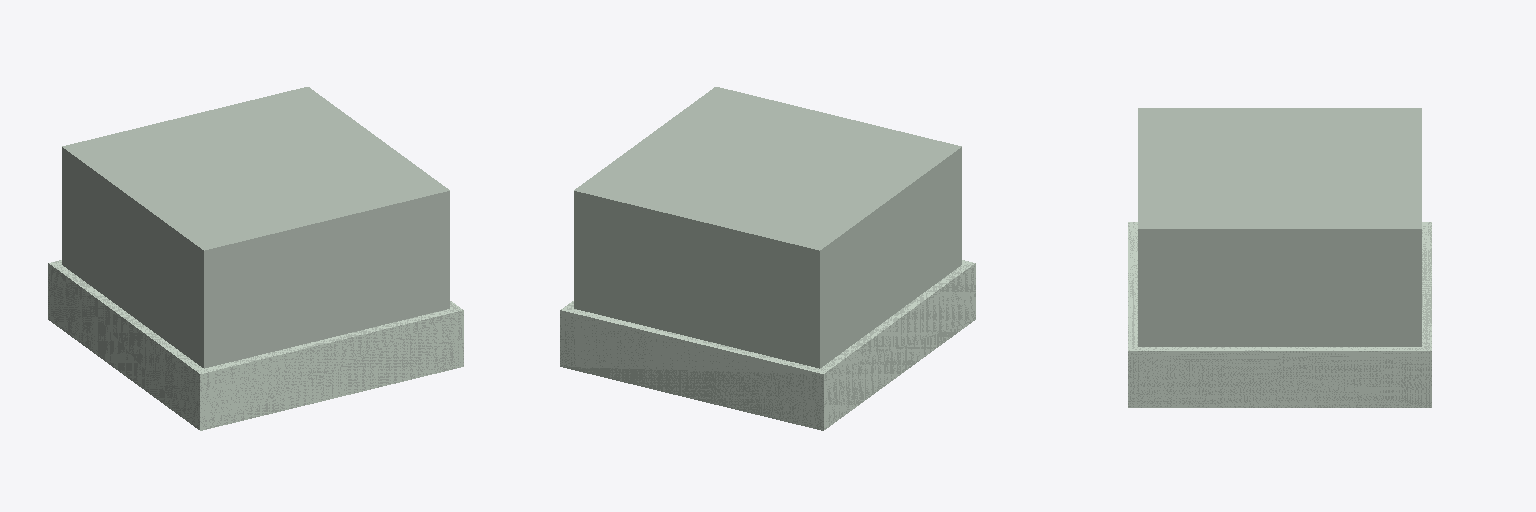
Rendered from tile_040.obj.
3 renders of one model, left to right at view 1: azimuth 30°, elevation 25°; view 2: azimuth 150°, elevation 25°; view 3: azimuth 270°, elevation 25°, orthographic.
Parts seen in each view (by area): view 1: tile_040; view 2: tile_040; view 3: tile_040.
Boxes of the visible parts, box(x1,y1,x2,y2) form: tile_040: box(48, 87, 463, 430); tile_040: box(560, 87, 975, 430); tile_040: box(1128, 108, 1431, 407).
Size of the model in its own units: 0.6301 by 0.4 by 0.6301.